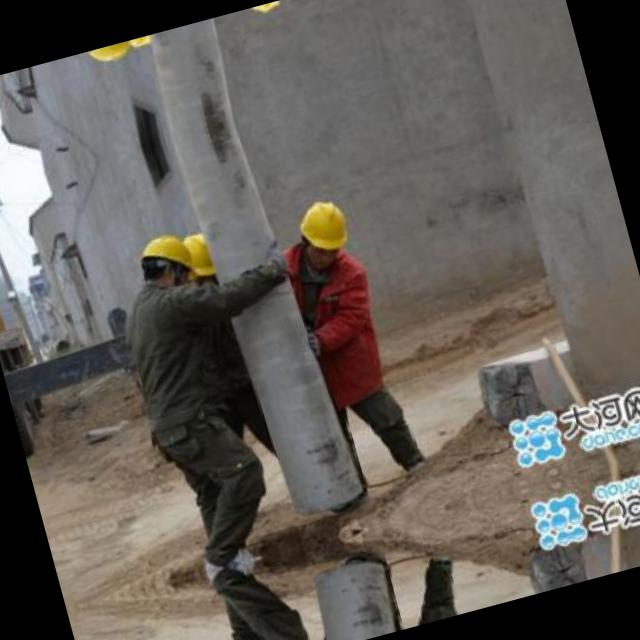helmet: (288, 194, 359, 274), (132, 228, 198, 302), (175, 223, 227, 289), (81, 39, 138, 71), (122, 32, 165, 56)
